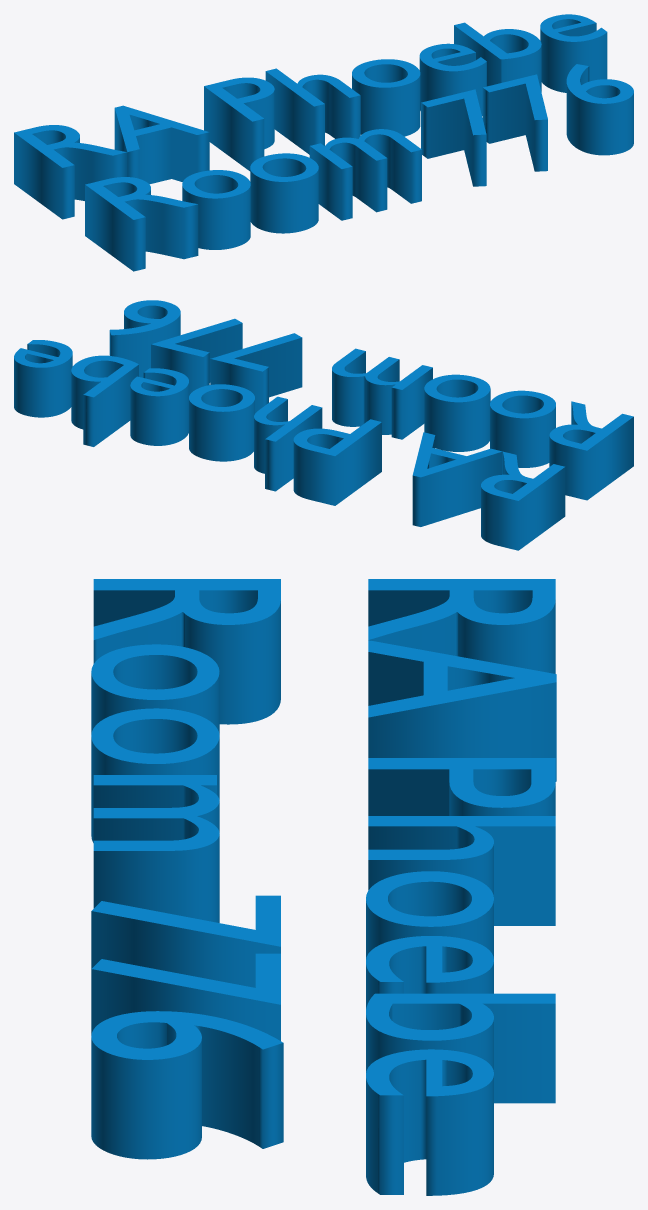
File: ra-phoebe-776.gltf
The picture shows the model from 3 angles, top to bottom: view 1: azimuth 30°, elevation 25°; view 2: azimuth 150°, elevation 25°; view 3: azimuth 270°, elevation 25°; orthographic projection. The views are drawn at different scales.
Visible parts, largest first — view 1: Text; view 2: Text; view 3: Text.
Part boxes in pixels (x1=…): Text: x1=14, y1=14, x2=633, y2=271; Text: x1=14, y1=300, x2=633, y2=550; Text: x1=91, y1=579, x2=556, y2=1195.
Size of the model in its own units: 4.46 by 0.4 by 1.69.
